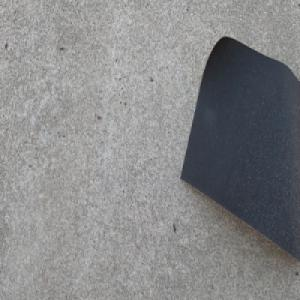PaintChip: (178, 33, 300, 260)
